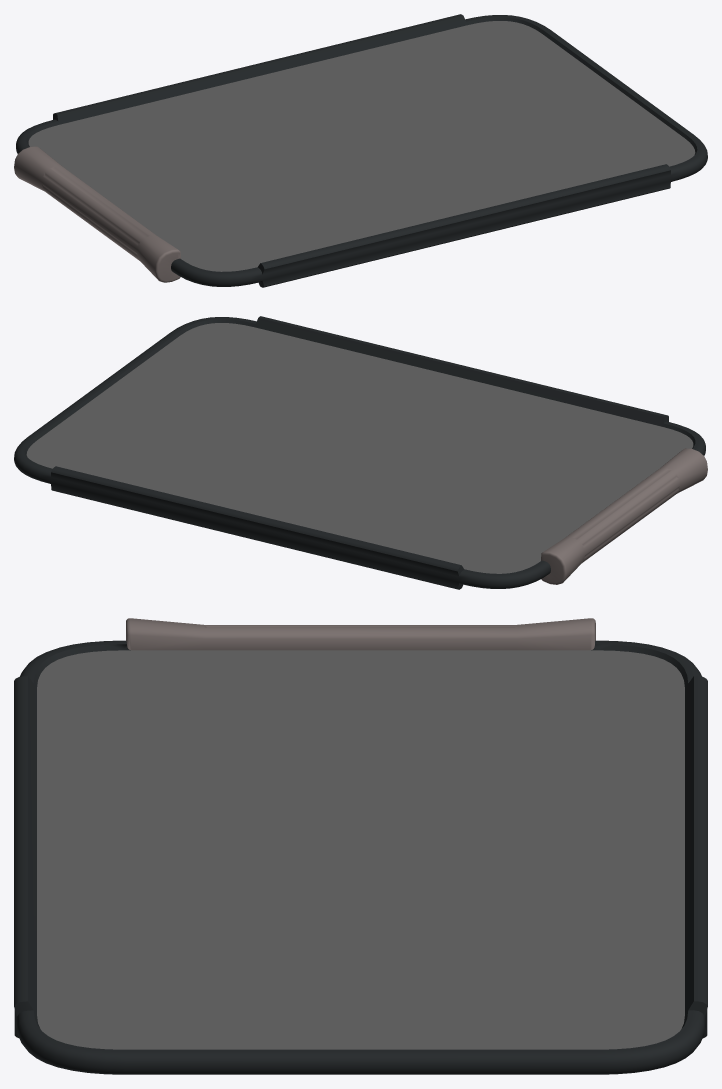
File: SM_ScannerTablet.fbx
3 views of the same model, one above another, from view 1: azimuth 30°, elevation 25°; view 2: azimuth 150°, elevation 25°; view 3: azimuth 270°, elevation 25° (orthographic). The views are drawn at different scales.
Parts seen in each view (by area): view 1: SM_ScannerTablet; view 2: SM_ScannerTablet; view 3: SM_ScannerTablet.
Part boxes in pixels (left/top/right/bottom): SM_ScannerTablet: left=14, top=14, right=707, bottom=287; SM_ScannerTablet: left=14, top=316, right=707, bottom=589; SM_ScannerTablet: left=14, top=618, right=707, bottom=1074.
Size of the model in its own units: 16.64 by 0.941 by 11.29.
